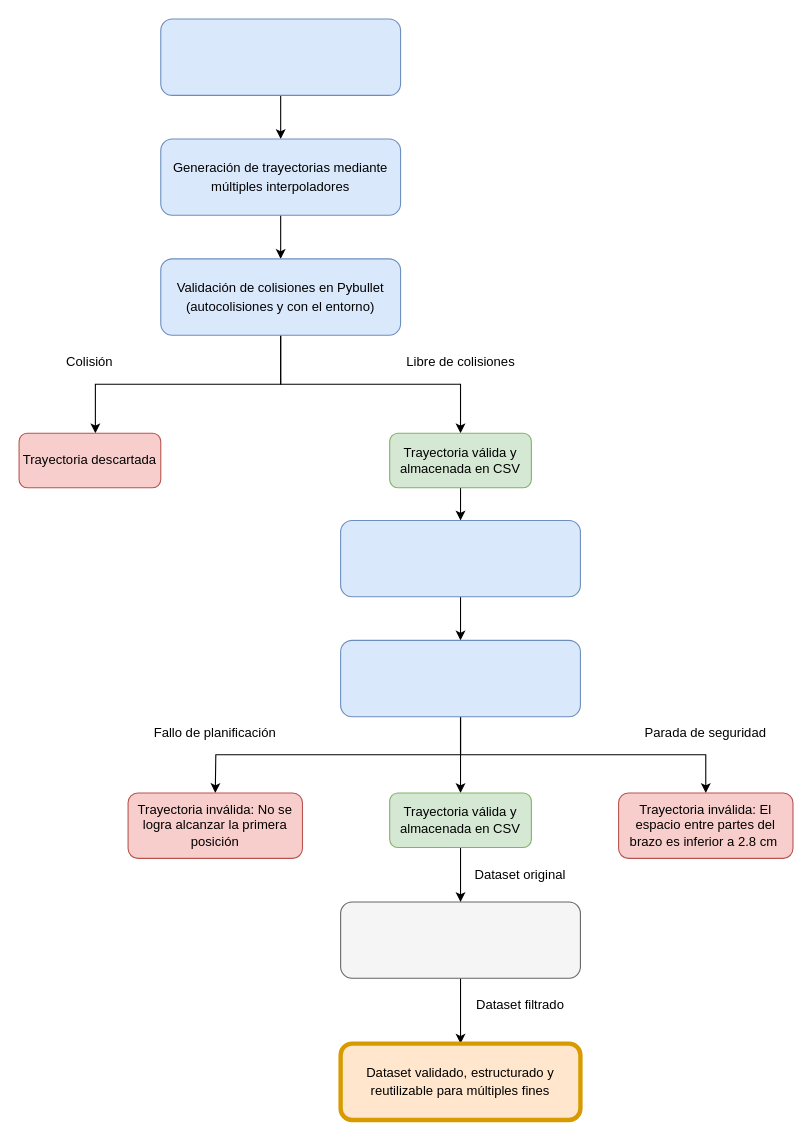
This 812x1141 diagram has some shape labels left out. The shapes that lost their labels are listed below. From the top down, each one's centre as x and y in pixels, then its label:
(x=280, y=56): Muestreo del espacio articular (configuraciones de puntos iniciales y finales)
(x=460, y=558): Planificación temporal en ROS/MoveIt! (Restricciones dinámicas reales)
(x=460, y=678): Ejecución y registro físico en UR3e (topic joins_states)
(x=460, y=939): Filtrado de ruido y redundancias
